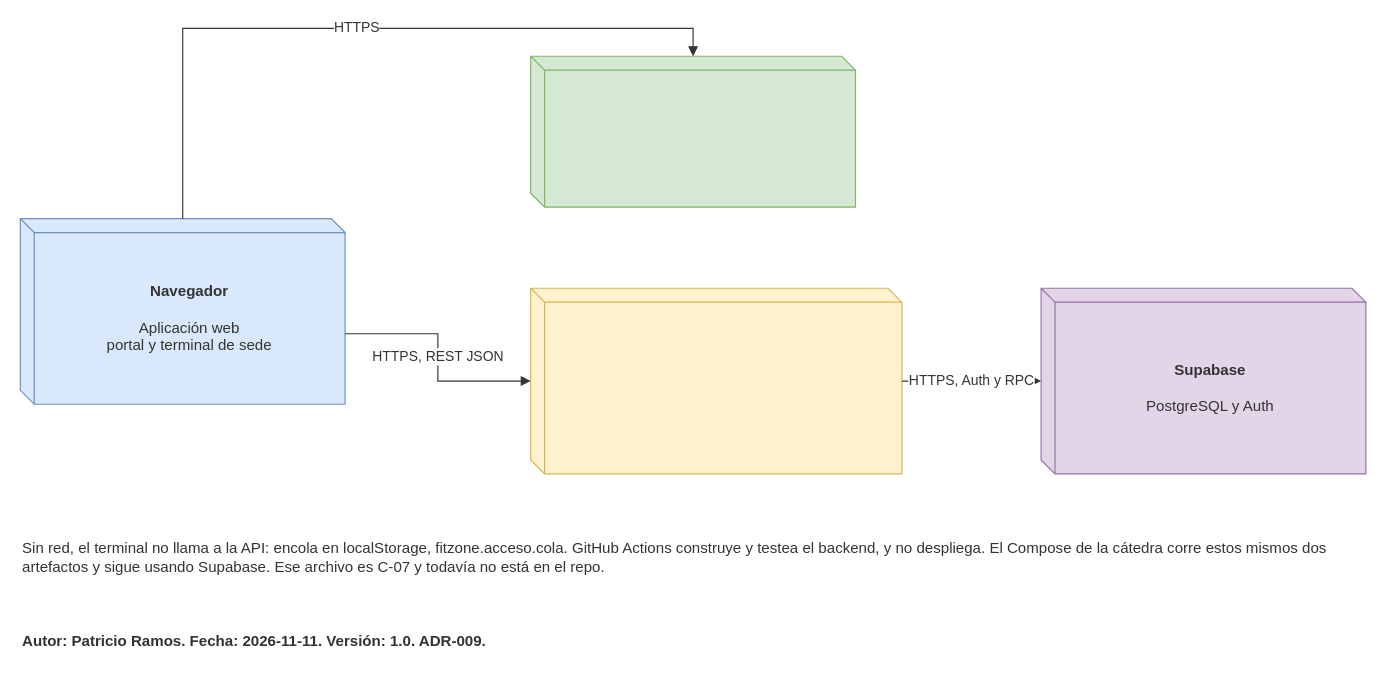
This 1386x673 diagram has some shape labels left out. Each missing label, with the centre of its shape:
"Render API NestJS PasarelaSimulada en el mismo proceso" goes at point 716,380.
"Vercel Sitio estático build de Vite" goes at point 692,131.
